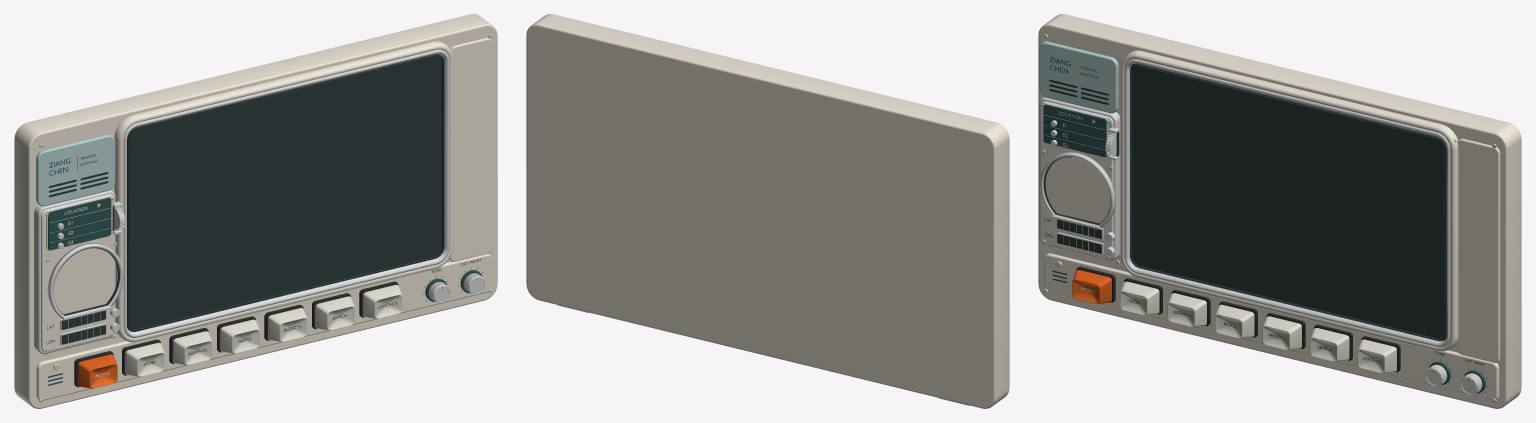
Rendered from console-controls-v4.glb.
3 renders of one model, left to right at view 1: azimuth 30°, elevation 25°; view 2: azimuth 150°, elevation 25°; view 3: azimuth 330°, elevation 25°, orthographic.
Parts seen in each view (by area): view 1: Display dark well, Rear ivory enclosure, Badge mounting rail, Outer CRT ivory fairing, Lower control rail, Globus enamel face, Machined CRT rim, Maker plate, Thin inner screen seal, Globus selector field, Globus main housing, key_search (+8 smaller); view 2: Rear ivory enclosure; view 3: Display dark well, Rear ivory enclosure, Badge mounting rail, Outer CRT ivory fairing, Lower control rail, Machined CRT rim, Globus enamel face, Maker plate, Thin inner screen seal, Globus selector field, Globus main housing, key_contact (+8 smaller).
Boxes of the visible parts, <box> form: Display dark well: <box>129,56,441,329</box>; Rear ivory enclosure: <box>14,14,497,408</box>; Badge mounting rail: <box>449,37,492,261</box>; Outer CRT ivory fairing: <box>114,41,453,342</box>; Lower control rail: <box>36,254,491,400</box>; Globus enamel face: <box>41,194,114,352</box>; Machined CRT rim: <box>123,49,449,337</box>; Maker plate: <box>36,134,115,206</box>; Thin inner screen seal: <box>127,54,444,331</box>; Globus selector field: <box>48,197,111,250</box>; Globus main housing: <box>34,190,115,354</box>; key_search: <box>315,296,354,330</box>; Rear ivory enclosure: <box>526,14,1009,408</box>; Display dark well: <box>1132,66,1444,338</box>; Rear ivory enclosure: <box>1038,14,1521,408</box>; Badge mounting rail: <box>1457,138,1500,362</box>; Outer CRT ivory fairing: <box>1120,50,1458,351</box>; Lower control rail: <box>1044,253,1499,400</box>; Machined CRT rim: <box>1124,59,1450,347</box>; Globus enamel face: <box>1040,101,1113,258</box>; Maker plate: <box>1039,41,1118,113</box>; Thin inner screen seal: <box>1130,63,1446,341</box>; Globus selector field: <box>1043,104,1106,157</box>; Globus main housing: <box>1039,97,1120,260</box>; key_contact: <box>1357,339,1396,373</box>.
Size of the model in its own units: 16 by 9.1 by 1.69.
